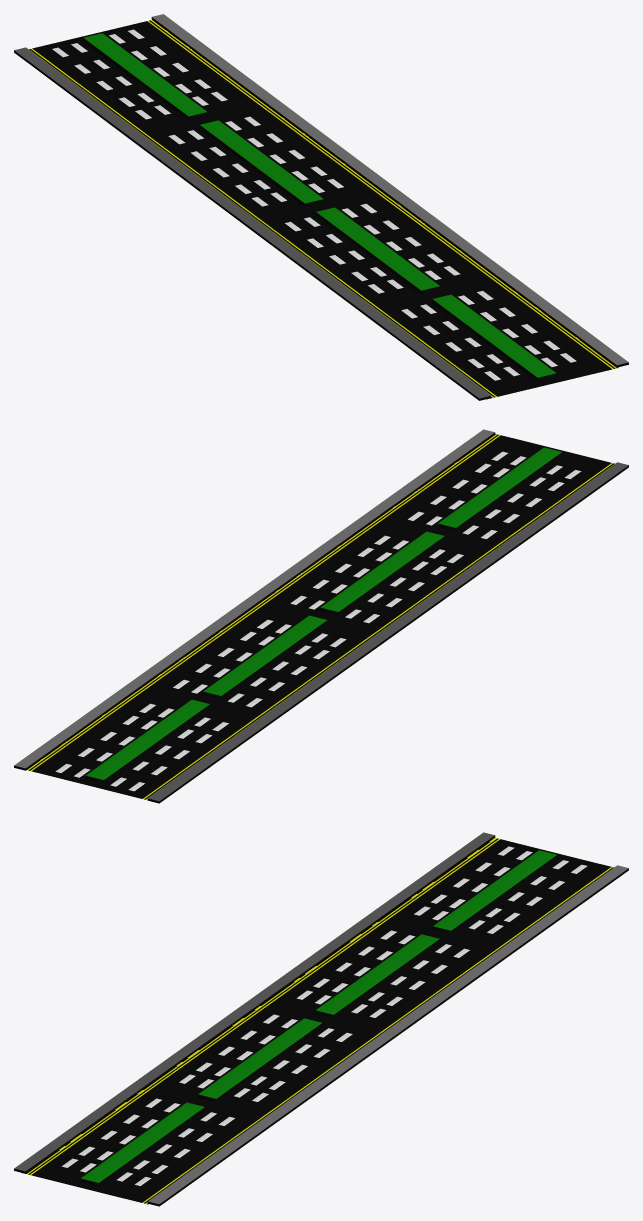
File: road_1(LONG).fbx
3 renders of one model, top to bottom at view 1: azimuth 30°, elevation 25°; view 2: azimuth 150°, elevation 25°; view 3: azimuth 330°, elevation 25°, orthographic. The views are drawn at different scales.
Visible parts, largest first — view 1: Plane.003, Plane.004, Plane.005; view 2: Plane.003, Plane.004, Plane.005; view 3: Plane.003, Plane.004, Plane.005.
Part boxes in pixels (x1,y1,x2,y2): Plane.003: [29, 20, 618, 399]; Plane.004: [14, 47, 491, 400]; Plane.005: [151, 14, 628, 367]; Plane.003: [26, 434, 614, 800]; Plane.004: [147, 462, 628, 803]; Plane.005: [14, 429, 495, 770]; Plane.003: [21, 838, 613, 1204]; Plane.004: [14, 832, 495, 1173]; Plane.005: [147, 865, 628, 1206].
Bounding box in the file's own units: 2614 × 64.07 × 13659.
